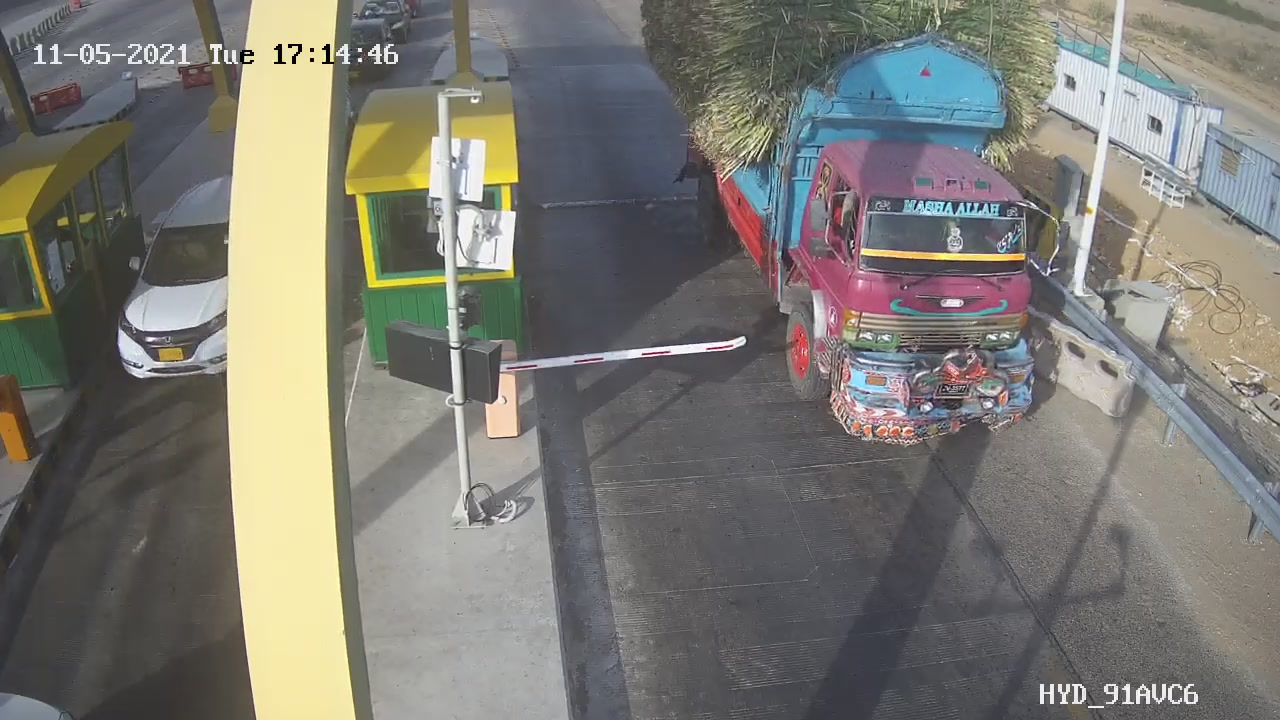F5: (639, 1, 1089, 465)
